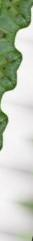Tomato Septoria leaf spot: (0, 78, 33, 141)
